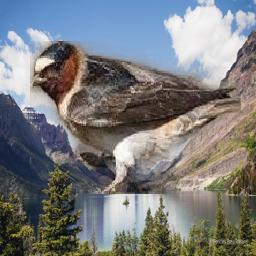Swallow: (31, 42, 242, 195)
